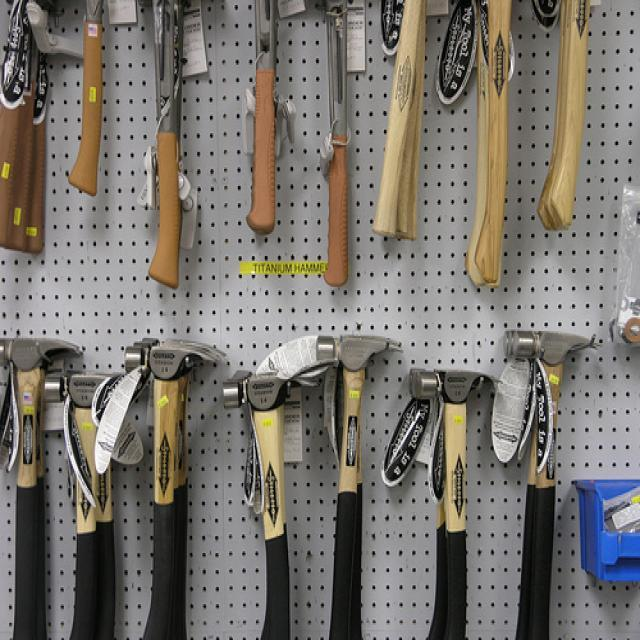hammer: (497, 314, 604, 640), (203, 365, 322, 640), (310, 323, 405, 640), (118, 334, 222, 623), (0, 315, 83, 640), (409, 357, 504, 627), (35, 367, 125, 640)
